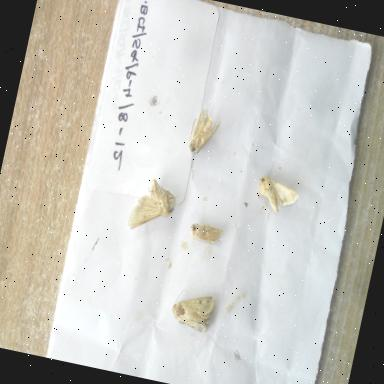abw: (120, 167, 184, 243), (163, 283, 222, 341), (248, 168, 306, 220), (181, 102, 227, 166), (182, 214, 230, 255)
